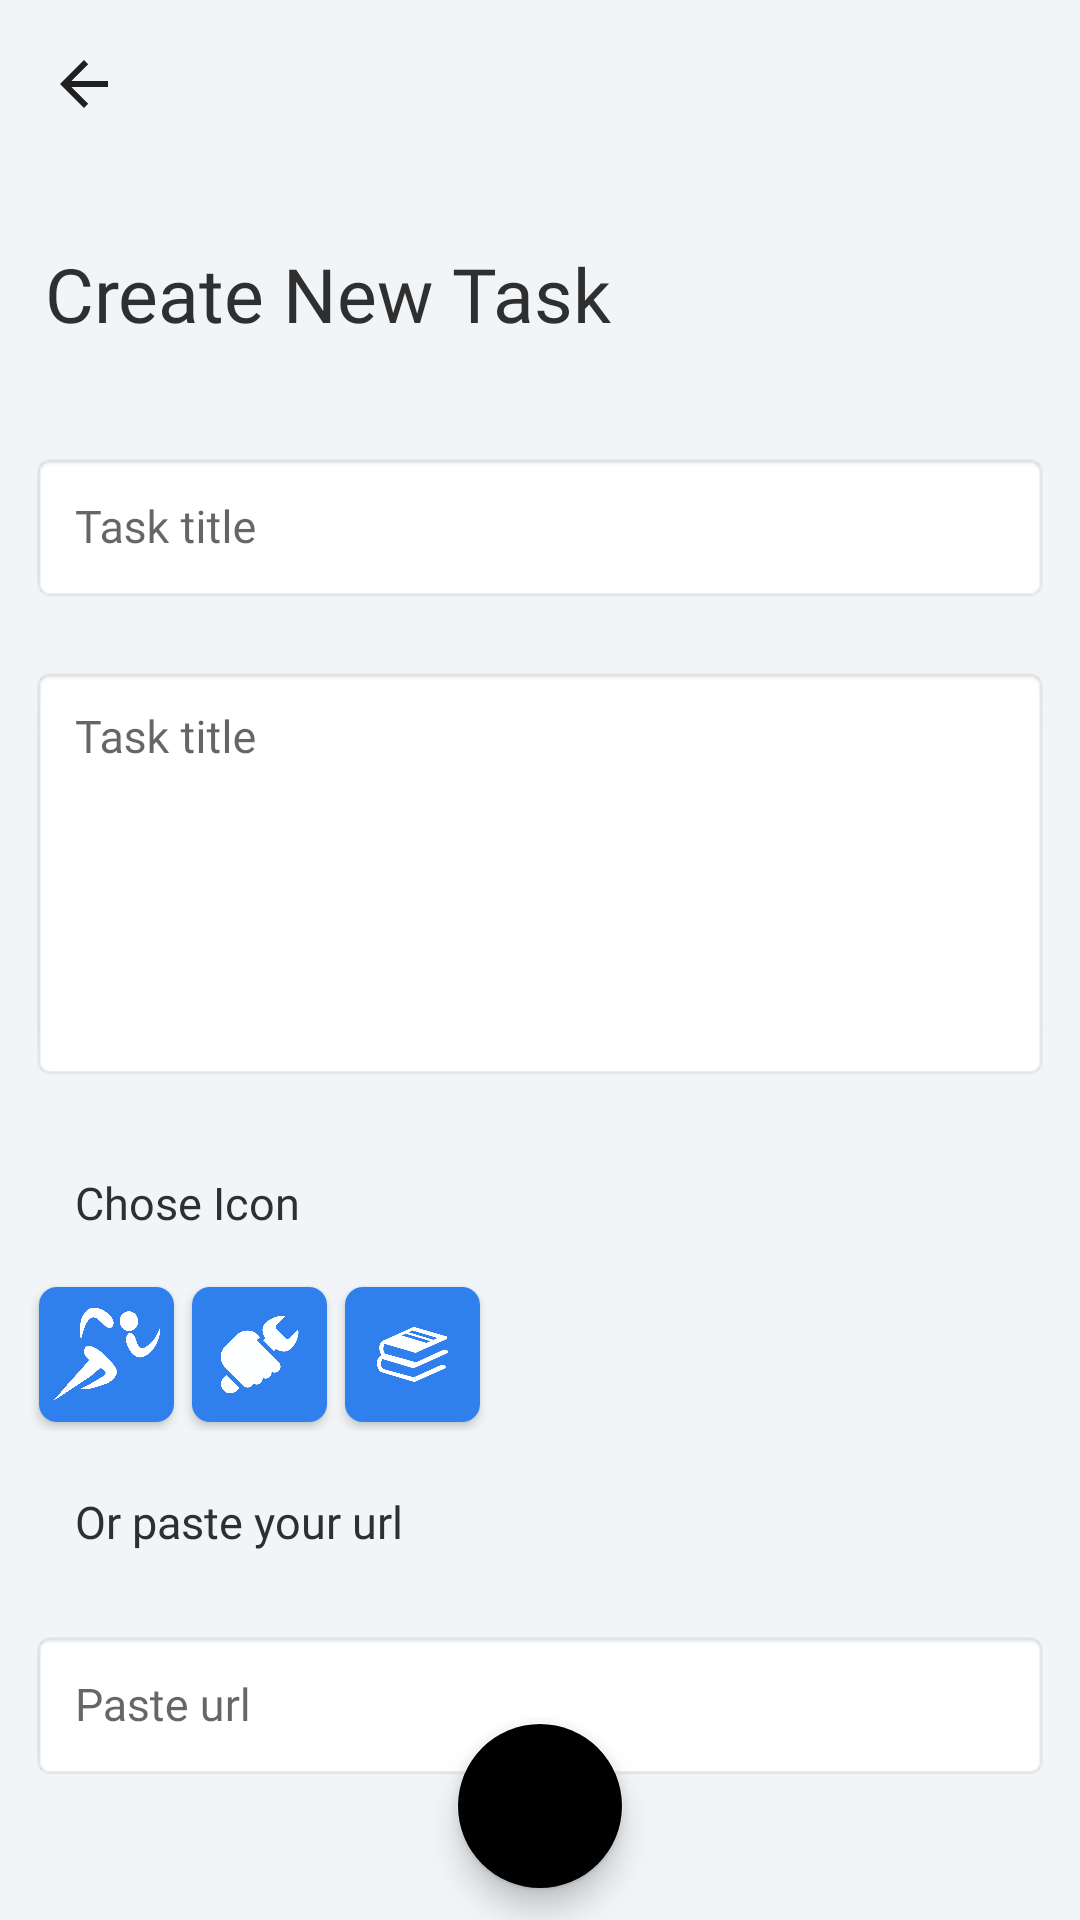

Named icons in this screenshot (1080×1920) and their bounding boxes, box=[x1, y1, x2, y2]:
read: box=[345, 1287, 480, 1422]
run: box=[39, 1287, 174, 1422]
work: box=[192, 1287, 327, 1422]
